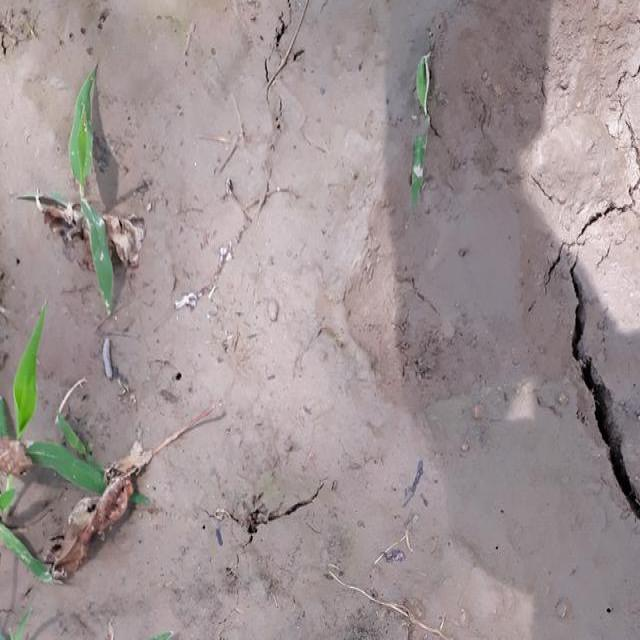weed: (9, 338, 119, 572), (46, 64, 146, 311), (410, 45, 432, 201)
